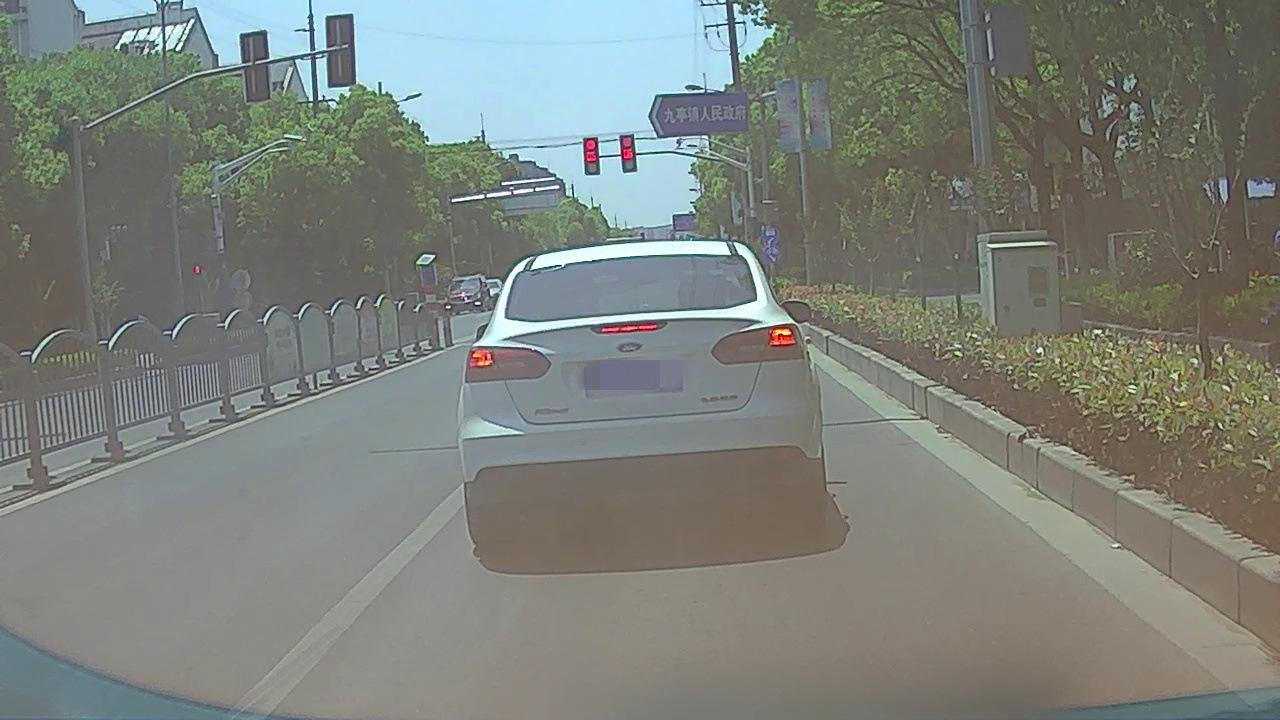traffic_light: (621, 133, 636, 170), (584, 139, 599, 174)
